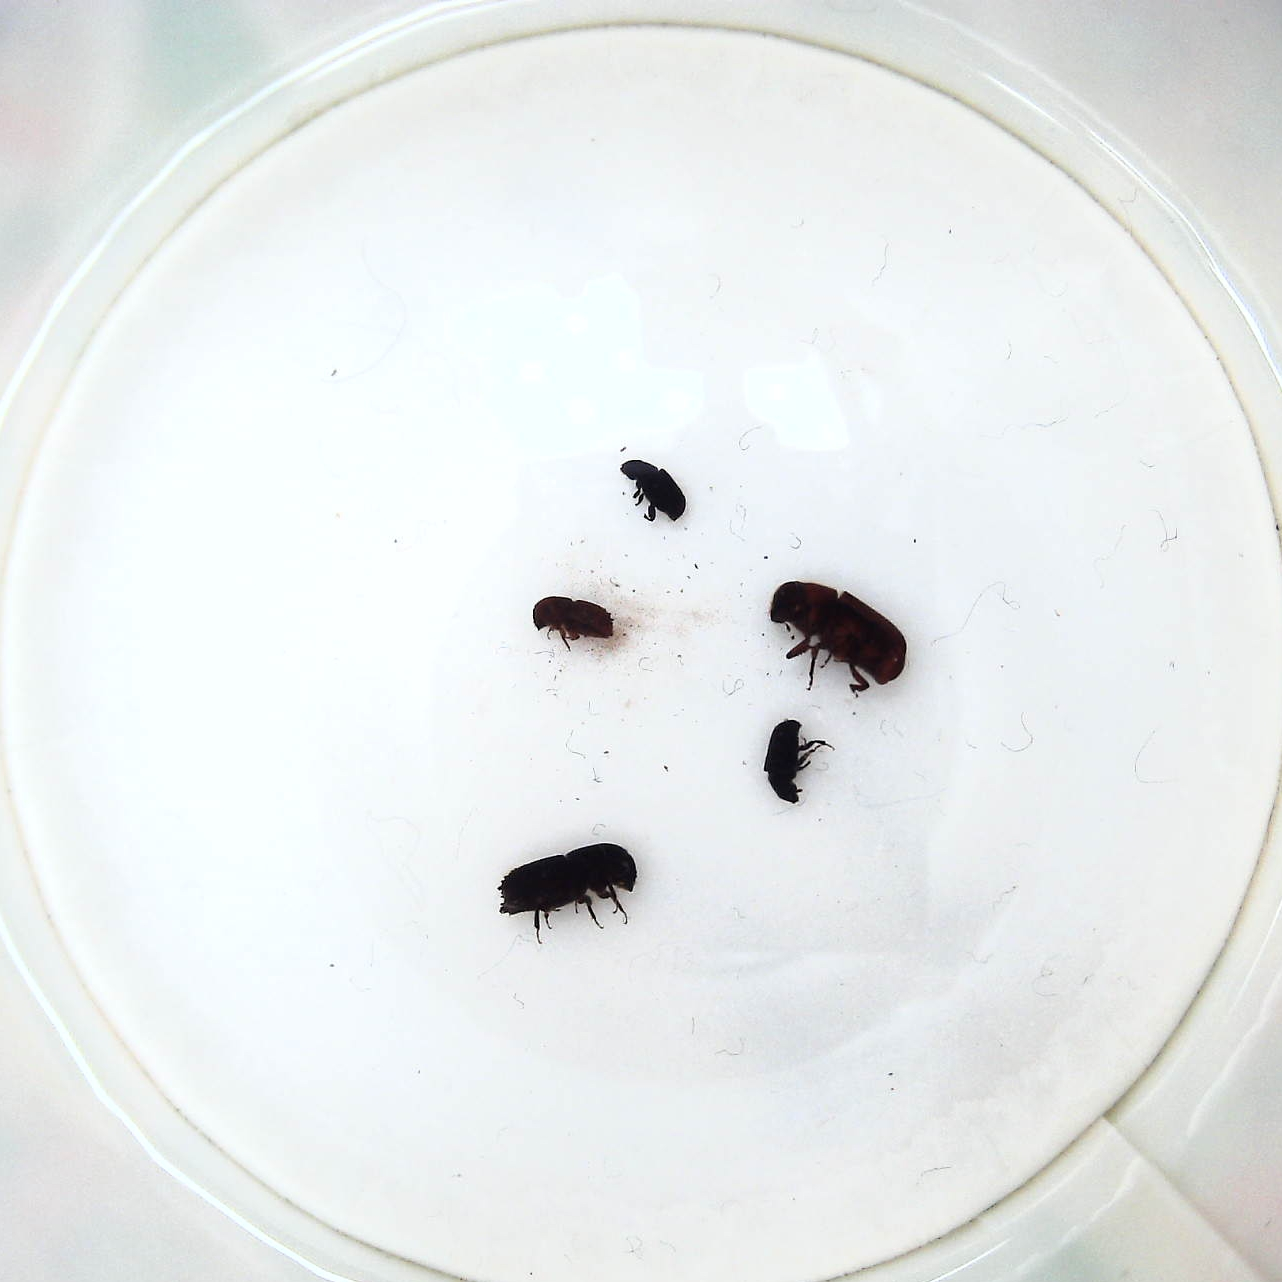Boerner: (493, 841, 640, 946)
Leconte: (769, 573, 918, 702)
armandi: (618, 453, 688, 529)
coleoptera: (760, 717, 835, 809)
linnaeus: (525, 592, 623, 646)
